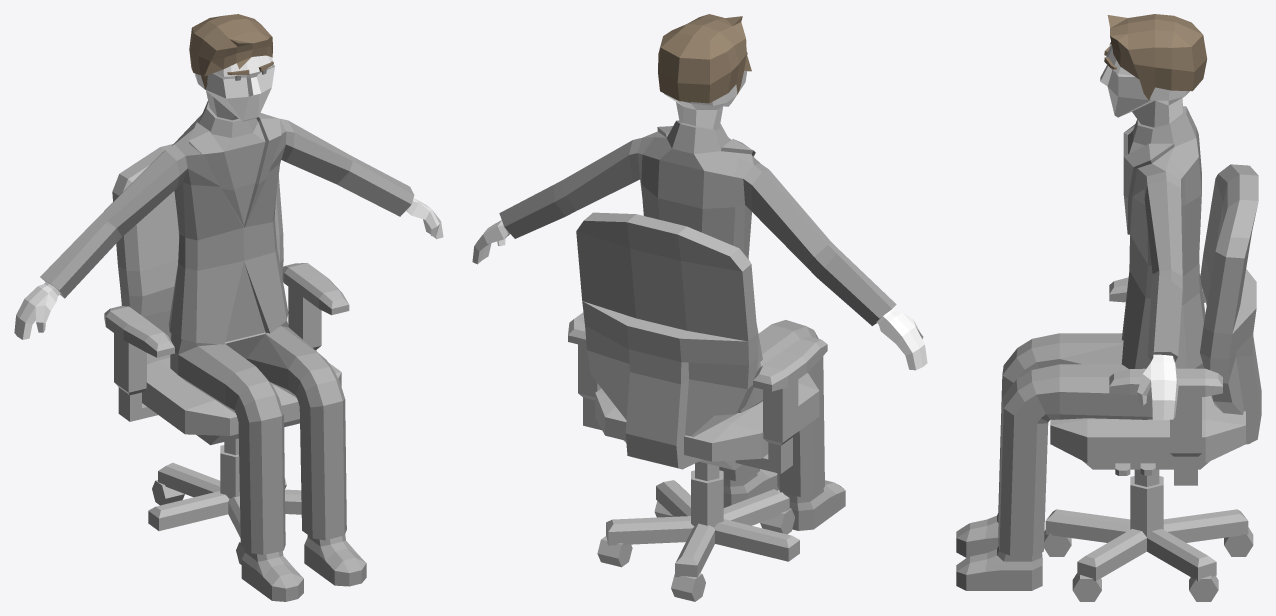
Rendered from sm_WorkerInChair.fbx.
The picture shows the model from 3 angles, left to right: view 1: azimuth 30°, elevation 25°; view 2: azimuth 150°, elevation 25°; view 3: azimuth 270°, elevation 25°; orthographic projection. The views are drawn at different scales.
Visible parts, largest first — view 1: m_suit, m_chair, m_chair_back, m_body1, m_legs, m_hair, m_cylinder; view 2: m_chair_back, m_suit, m_chair, m_legs, m_hair, m_body1, m_cylinder, w2, w5; view 3: m_suit, m_chair, m_chair_back, m_legs, m_hair, m_body1, m_cylinder, w4, w5, w2, w3.
Part boxes in pixels (x1=…): m_suit: x1=40, y1=101, x2=414, y2=601; m_chair: x1=104, y1=263, x2=349, y2=445; m_chair_back: x1=112, y1=144, x2=283, y2=339; m_body1: x1=14, y1=55, x2=443, y2=339; m_legs: x1=148, y1=463, x2=301, y2=537; m_hair: x1=189, y1=14, x2=273, y2=89; m_cylinder: x1=220, y1=438, x2=239, y2=498; m_chair_back: x1=576, y1=212, x2=757, y2=469; m_suit: x1=499, y1=120, x2=896, y2=530; m_chair: x1=568, y1=312, x2=827, y2=473; m_legs: x1=606, y1=480, x2=799, y2=577; m_hair: x1=658, y1=14, x2=751, y2=103; m_body1: x1=472, y1=71, x2=927, y2=370; m_cylinder: x1=691, y1=461, x2=723, y2=527; w2: x1=671, y1=573, x2=705, y2=601; w5: x1=597, y1=536, x2=632, y2=567; m_suit: x1=956, y1=106, x2=1205, y2=590; m_chair: x1=1050, y1=274, x2=1245, y2=485; m_chair_back: x1=1200, y1=164, x2=1261, y2=444; m_legs: x1=1045, y1=509, x2=1248, y2=580; m_hair: x1=1104, y1=14, x2=1207, y2=100; m_body1: x1=1100, y1=44, x2=1189, y2=420; m_cylinder: x1=1130, y1=469, x2=1163, y2=536; w4: x1=1072, y1=573, x2=1101, y2=601; w5: x1=1189, y1=575, x2=1218, y2=601; w2: x1=1224, y1=527, x2=1253, y2=556; w3: x1=1044, y1=530, x2=1071, y2=556.
Bounding box in the file's own units: 134 × 153 × 77.38.
